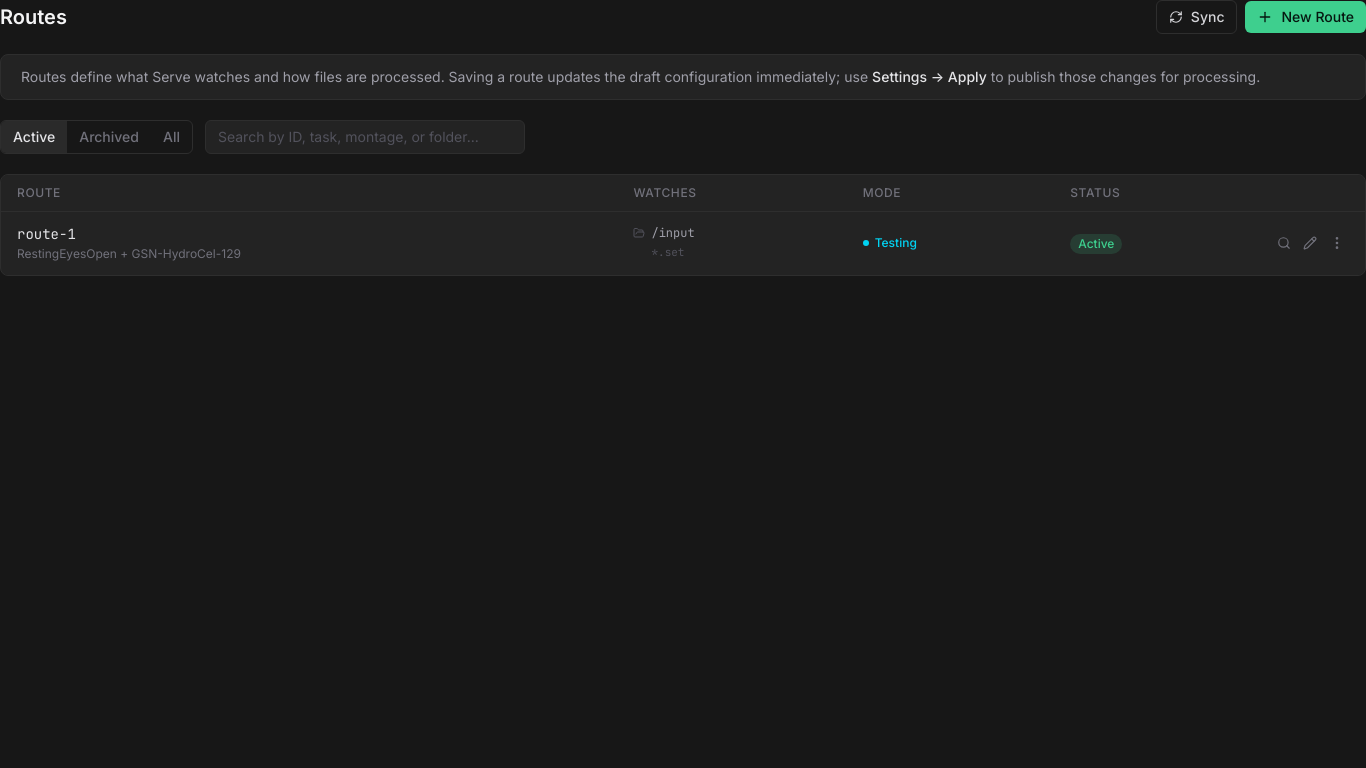
Test case: Routes page actions › requires confirmation for promote and then shows Apply guidance
Click the button named "Open actions for route route-1": [1337, 243] box [1325,231,1349,255]
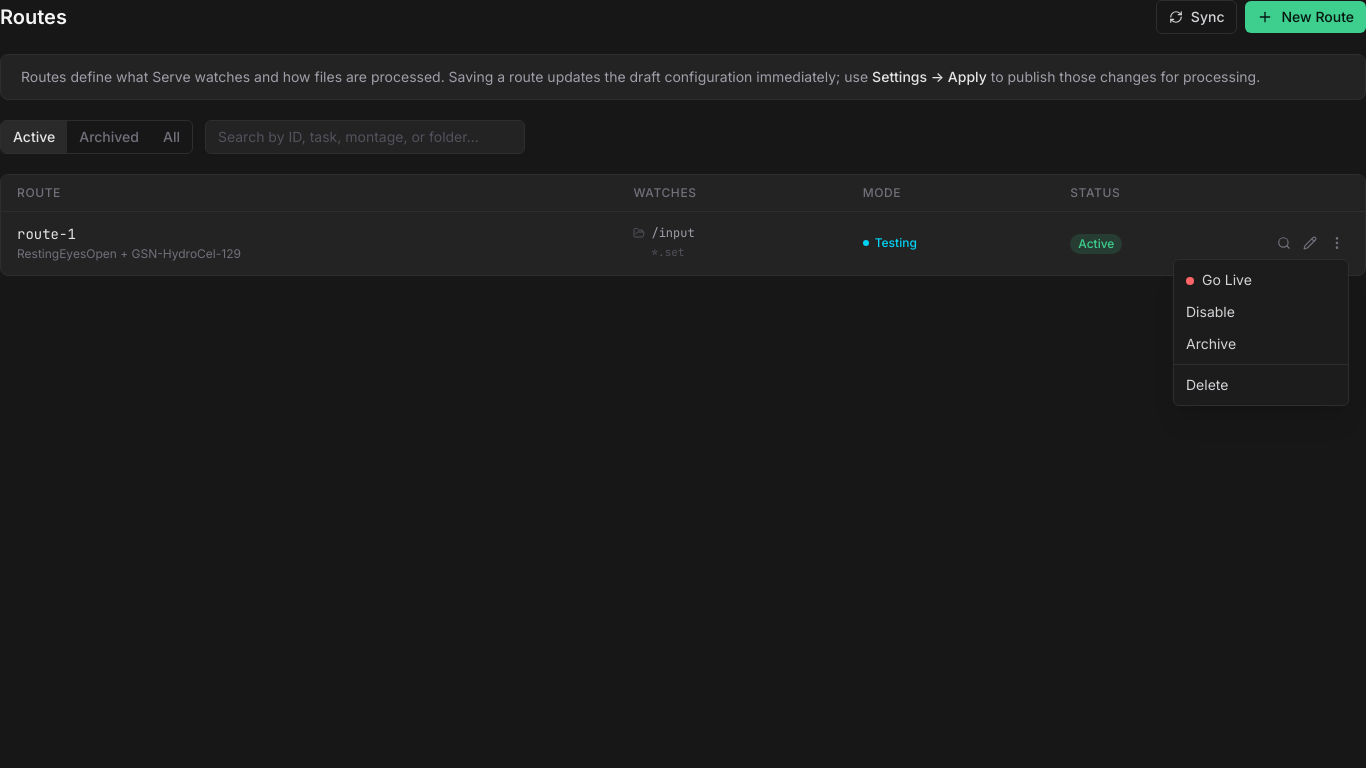
Click the button "Go Live": [1261, 280] box [1174,264,1348,296]
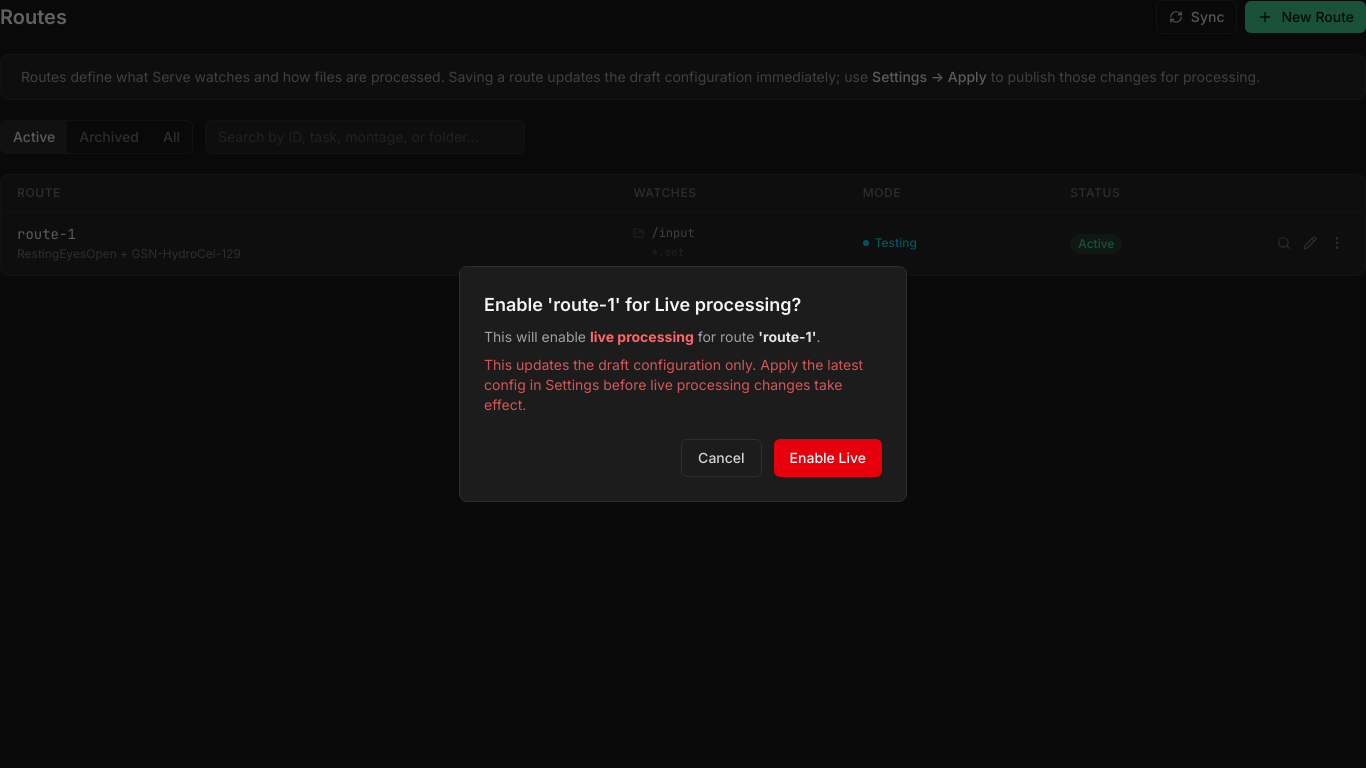
expect the heading "Enable 'route-1' for Live processing?" is shown: met, box [484,294,801,315]
expect the text "Apply the latest config in Settings before live processing changes take effect" is shown: met, box [484,356,863,413]
Click the button "Enable Live": [828, 458] box [774,439,882,477]
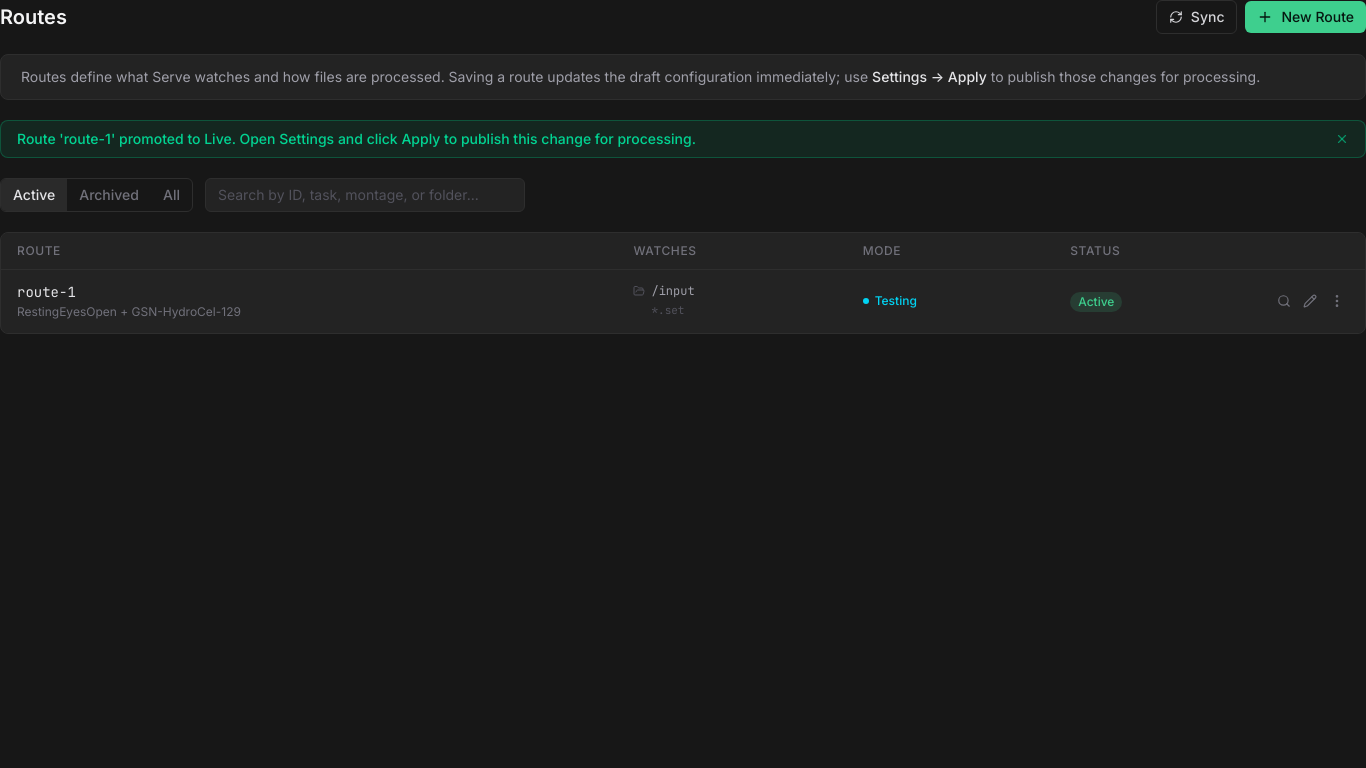
expect the text "Route 'route-1' promoted to Live. Open Settings and click Apply to publish this change for processing." is shown: met, box [17,130,696,147]
